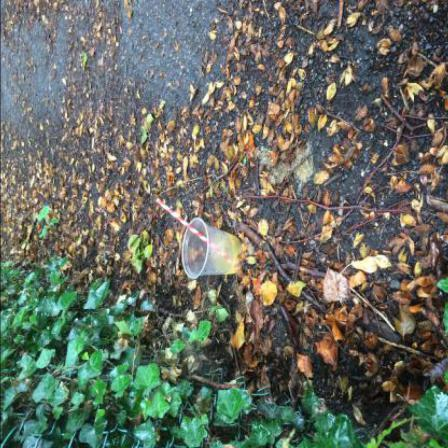Cup: (183, 219, 244, 280)
Straw: (156, 199, 208, 246)
